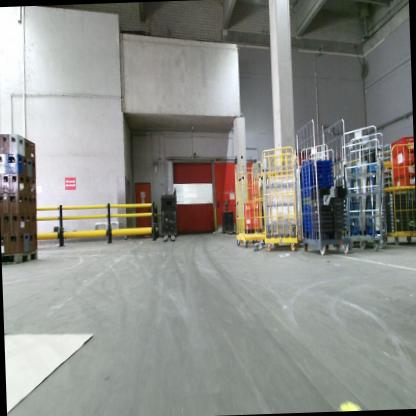pallet: (2, 250, 39, 267)
pallet_truck: (154, 177, 186, 244), (221, 196, 245, 237)
